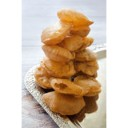poori: (44, 90, 85, 117), (41, 55, 75, 77), (56, 7, 93, 26), (50, 77, 81, 98), (42, 21, 70, 44), (74, 74, 102, 95), (40, 43, 73, 60), (63, 31, 83, 49)
